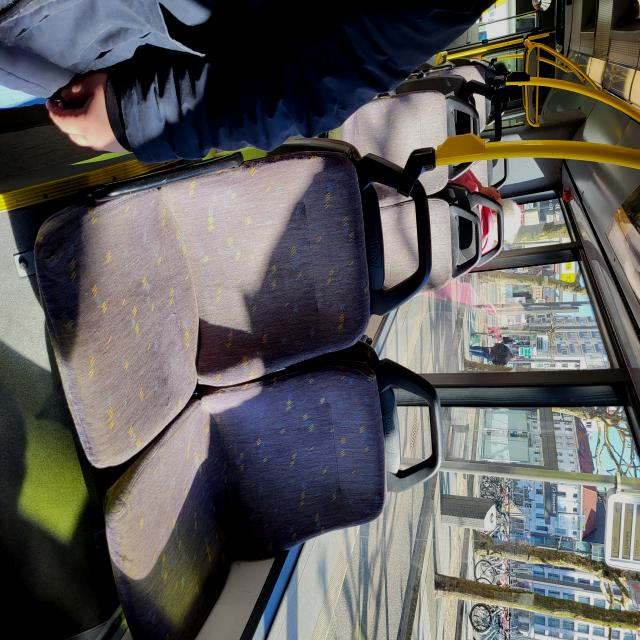asiento-libre: (416, 264, 640, 640), (273, 279, 484, 640), (228, 213, 285, 420), (205, 174, 266, 291), (300, 222, 376, 303), (307, 177, 358, 219), (278, 176, 311, 236)
